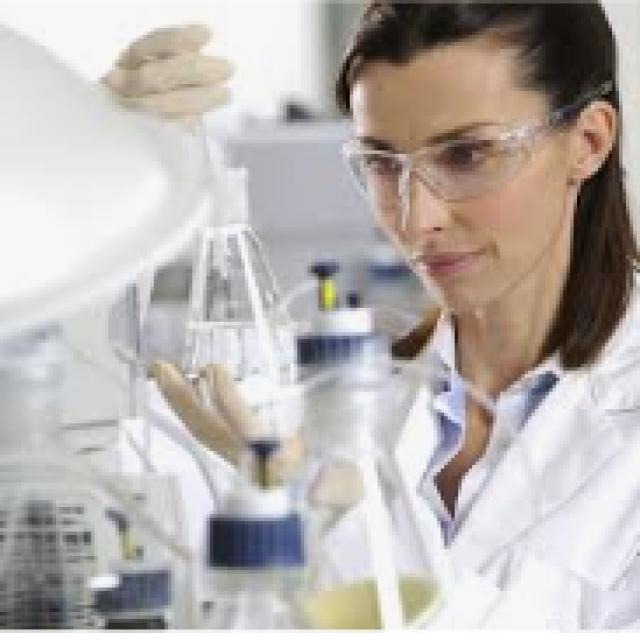glasses: (326, 123, 577, 205)
